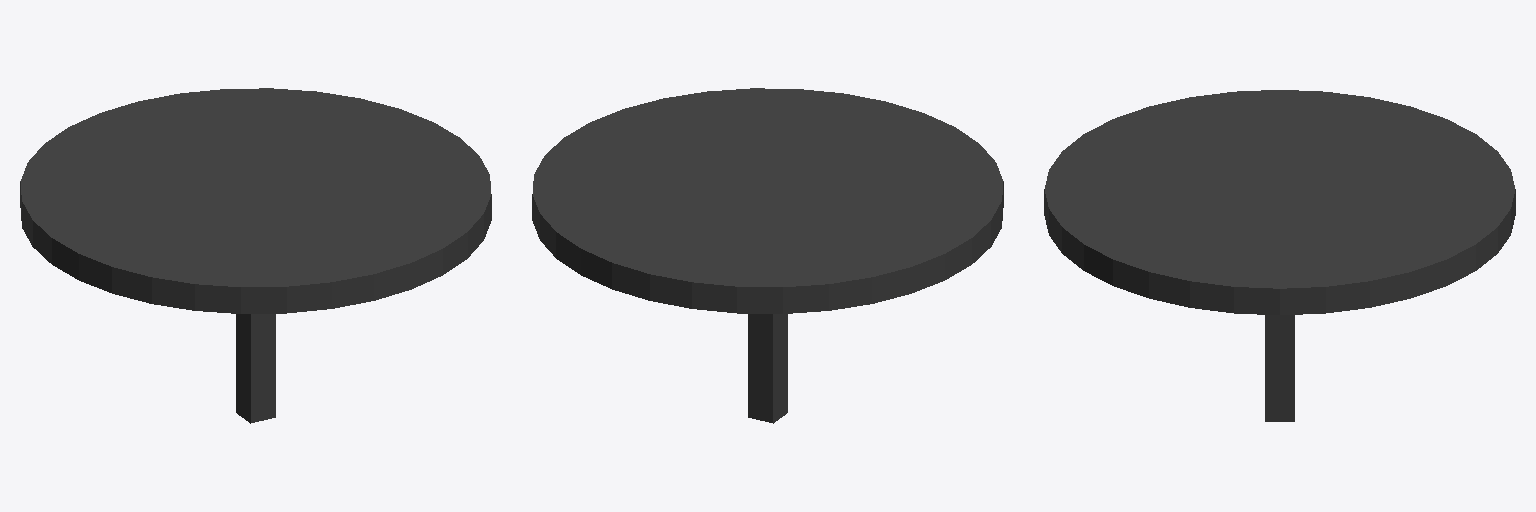
URDF robot description (dinning_table):
<?xml version="0.0" ?>
<robot name="dinning_table">
<link name="surface">
    <contact>
      <lateral_friction value="1.0"/>
    </contact>
    <inertial>
      <origin rpy="0 0 0" xyz="0 0 0"/>
       <mass value=".0"/>
       <inertia ixx="1" ixy="0" ixz="0" iyy="1" iyz="0" izz="1"/>
    </inertial>
    <visual>
      <origin rpy="0 0 0" xyz="0 0 0"/>
      <geometry>
		<cylinder radius="0.8" length="0.1"/>
      </geometry>
       <material name="white">
        <color rgba="0.3 0.3 0.3 1"/>
      </material>
    </visual>
    <collision>
      <origin rpy="0 0 0" xyz="0 0 0"/>
      <geometry>
    <cylinder radius="0.8" length="0.1"/>
      </geometry>
    </collision>
</link>

<link name="leg">
    <contact>
      <lateral_friction value="1.0"/>
    </contact>
    <inertial>
      <origin rpy="0 0 0" xyz="0 0 0"/>
       <mass value=".0"/>
       <inertia ixx="1" ixy="0" ixz="0" iyy="1" iyz="0" izz="1"/>
    </inertial>
    <visual>
      <origin rpy="0 0 0" xyz="0 0 0"/>
      <geometry>
		<box size="0.1 0.1 0.8"/>
      </geometry>
       <material name="white"/>
    </visual>
    <collision> 
      <geometry>
		<box size="0.1 0.1 0.8"/>
      </geometry>
    </collision>
</link>

<joint name="leg_to_surface" type="fixed">
    <parent link="leg"/>
    <child link="surface"/>
    <origin rpy="0 0 0" xyz="0 0 0.4"/> 
 </joint>

</robot>

--- What the picture shows (computed from the rendered views, not written in the file) ---
The picture shows the robot from 3 angles, left to right: view 1: azimuth 30°, elevation 25°; view 2: azimuth 150°, elevation 25°; view 3: azimuth 270°, elevation 25°; orthographic projection.
Robot: dinning_table — 2 links, 1 joints (1 fixed); root link leg; default pose: all joints at 0.
Visible links, largest first — view 1: surface, leg; view 2: surface, leg; view 3: surface, leg.
Link boxes in pixels (left/top/right/bottom): surface: left=20, top=88, right=491, bottom=313; leg: left=236, top=314, right=275, bottom=423; surface: left=532, top=88, right=1003, bottom=313; leg: left=748, top=314, right=787, bottom=423; surface: left=1044, top=90, right=1515, bottom=314; leg: left=1265, top=315, right=1294, bottom=421.
Size in the robot's own frame: 1.6 by 1.6 by 0.85 metres.
Geometry: primitives only (box / cylinder / sphere), no mesh files.